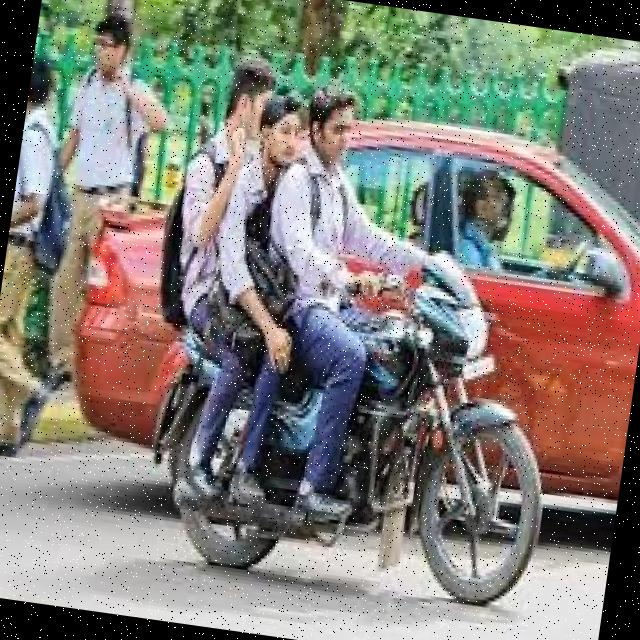No helmet: (302, 76, 367, 174)
Triple riding: (143, 40, 410, 435)
